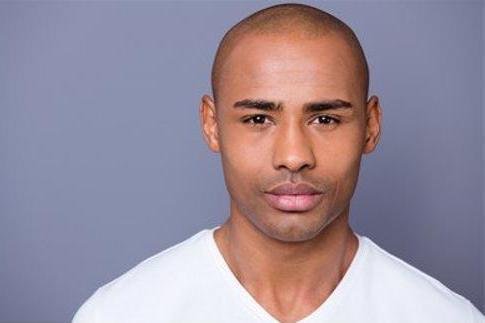Sober: (224, 52, 356, 229)
